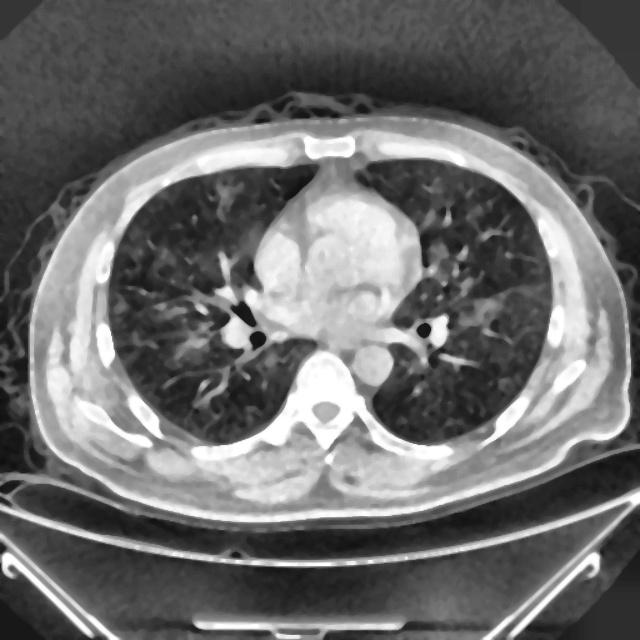covid: (23, 92, 634, 529)
